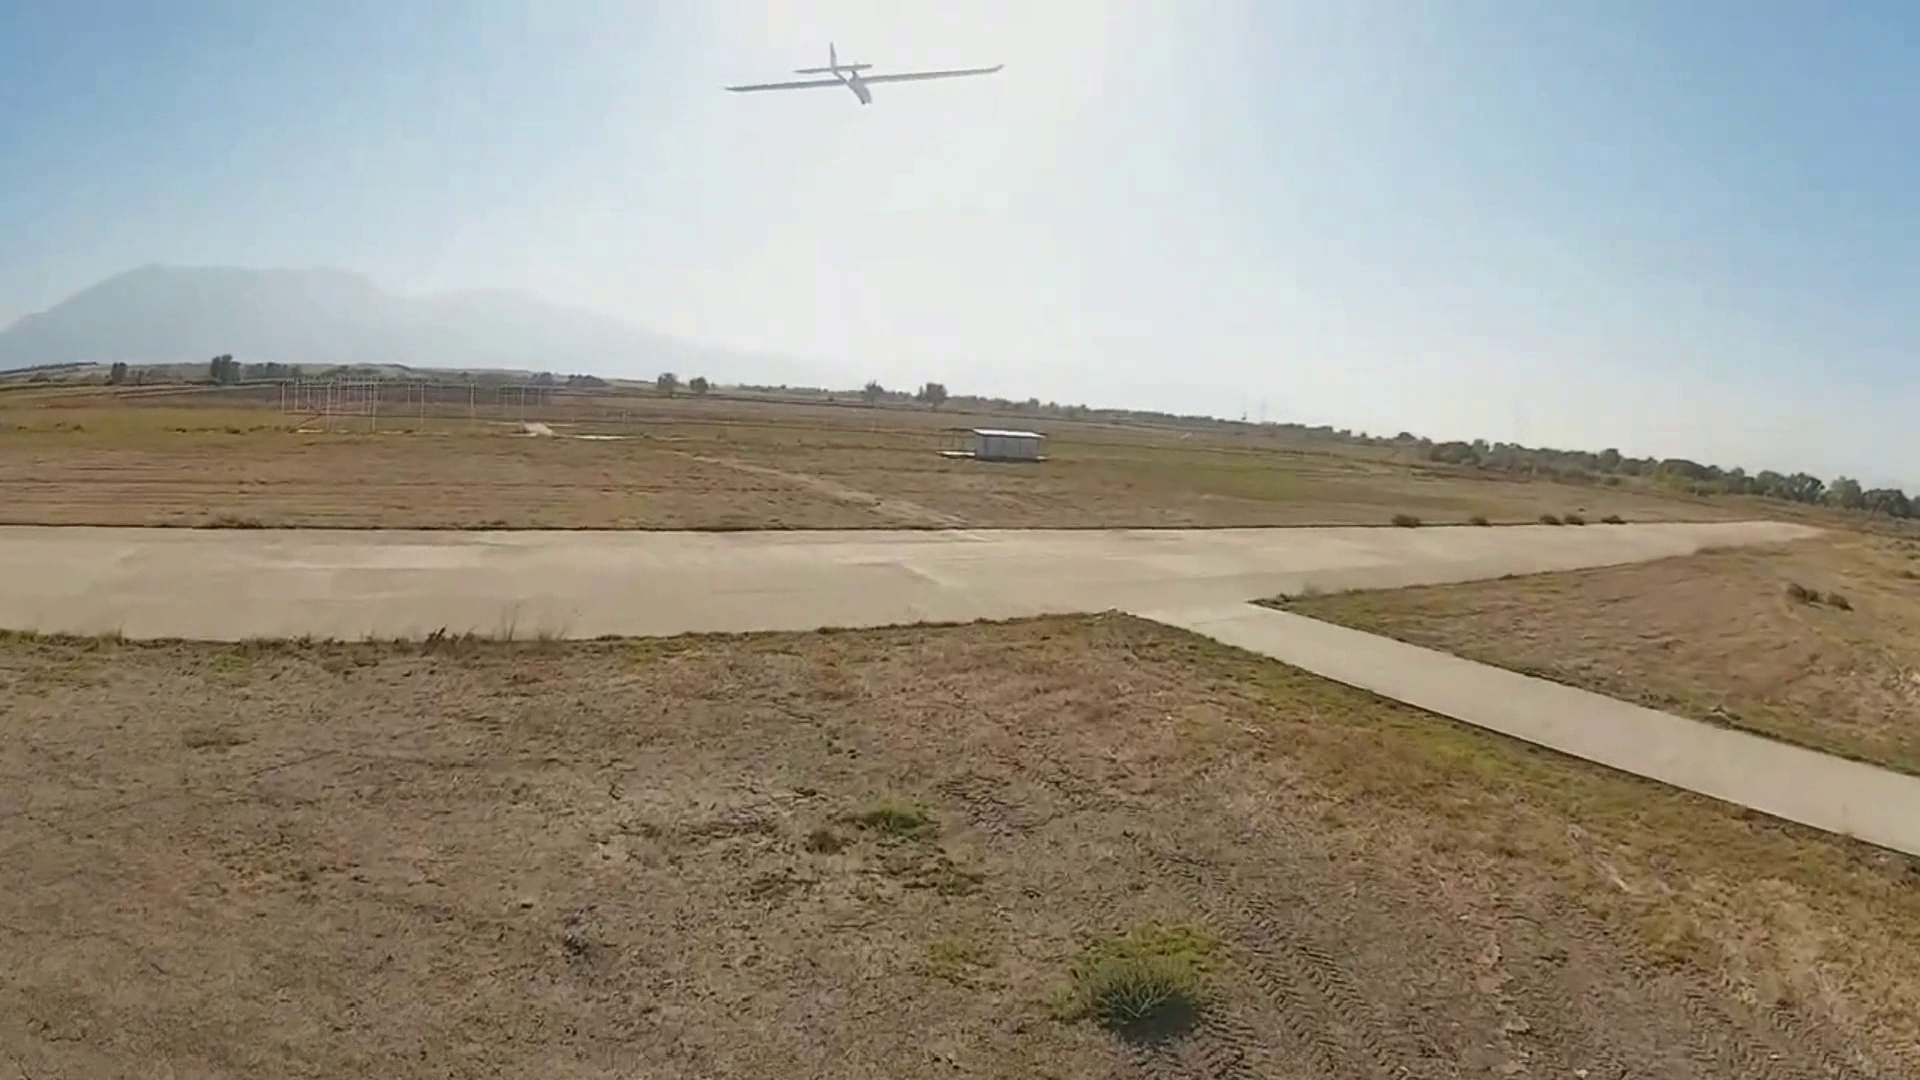airplane: (724, 37, 1004, 105)
